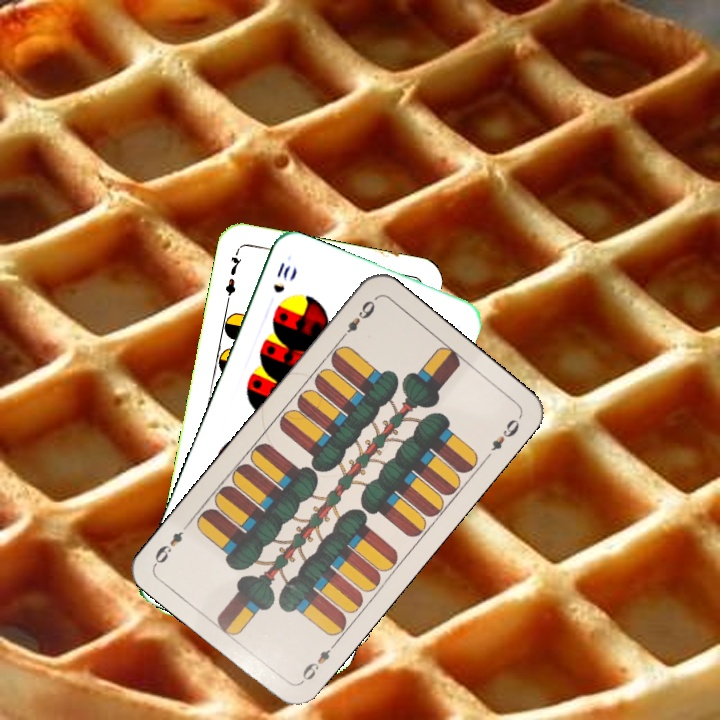E7: (221, 247, 245, 305)
E9: (296, 638, 340, 687), (336, 296, 378, 343)
S10: (269, 258, 293, 296)
